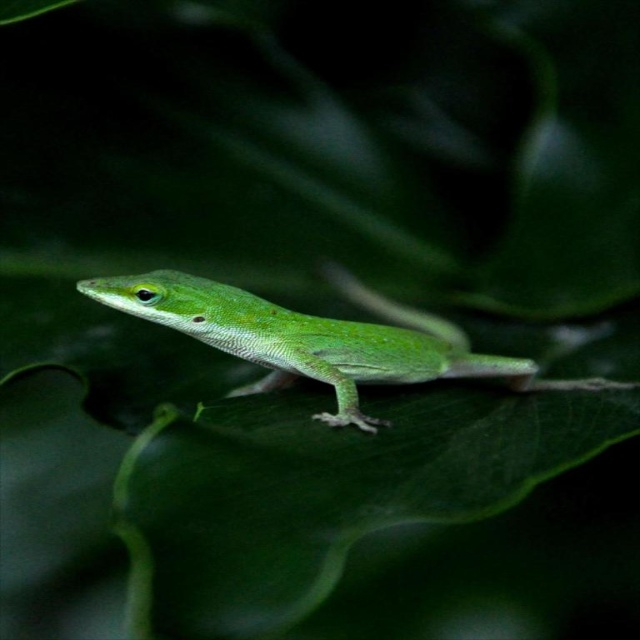Lizard: (76, 269, 539, 434)
